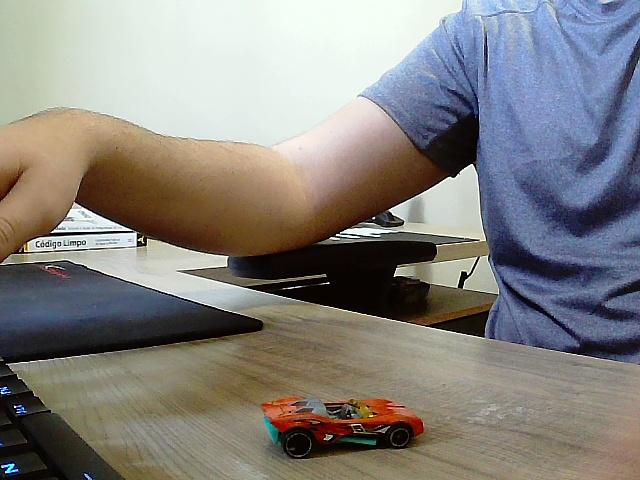Carro: (262, 398, 425, 460)
